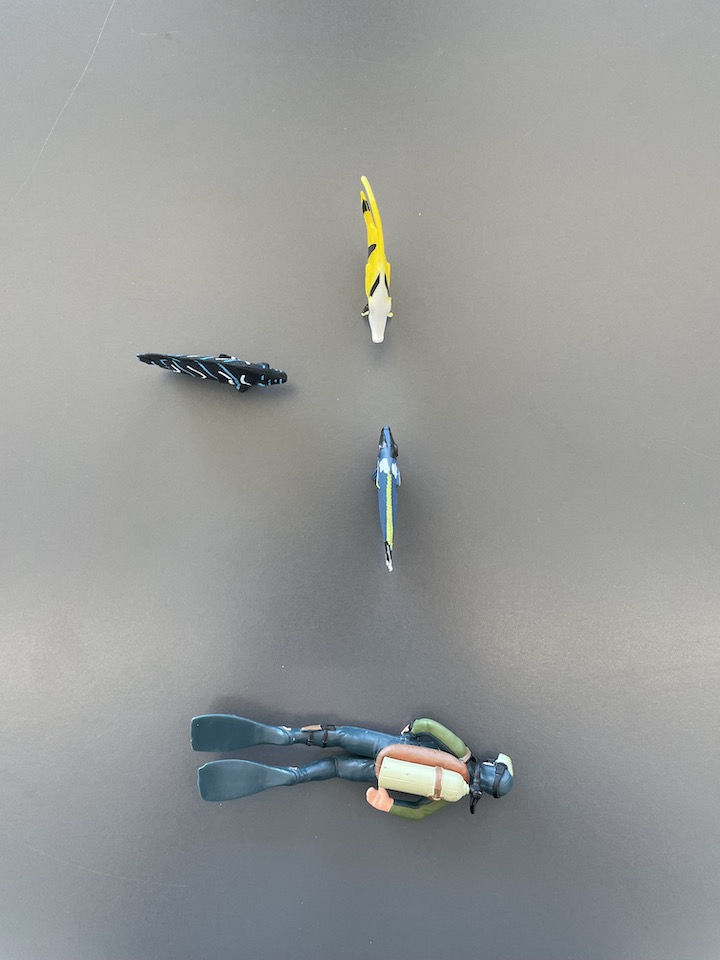danger: (351, 173, 401, 349)
diver: (181, 706, 522, 831)
fish: (132, 346, 298, 398), (365, 424, 409, 578)
